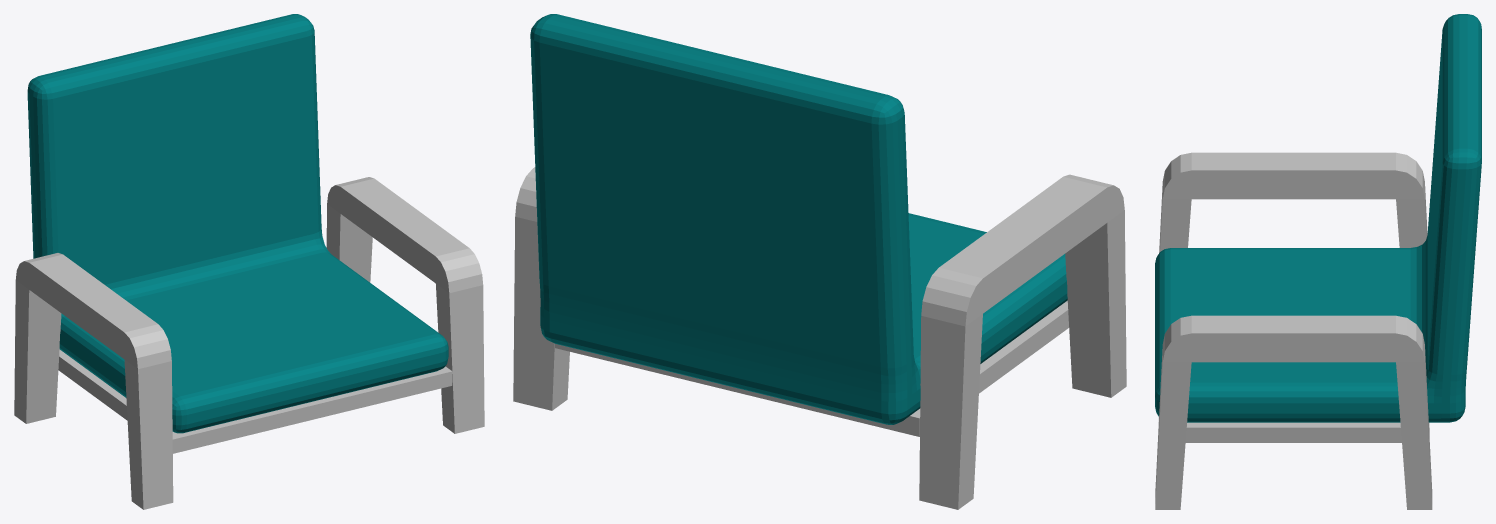
Rendered from Sofa_3.fbx.
3 renders of one model, left to right at view 1: azimuth 30°, elevation 25°; view 2: azimuth 150°, elevation 25°; view 3: azimuth 270°, elevation 25°, orthographic. The views are drawn at different scales.
Visible parts, largest first — view 1: Sofa_3; view 2: Sofa_3; view 3: Sofa_3.
Part boxes in pixels (x1=…): Sofa_3: x1=14, y1=14, x2=484, y2=509; Sofa_3: x1=513, y1=14, x2=1126, y2=509; Sofa_3: x1=1155, y1=14, x2=1481, y2=509.
Size of the model in its own units: 0.7114 by 0.6215 by 0.5437.
